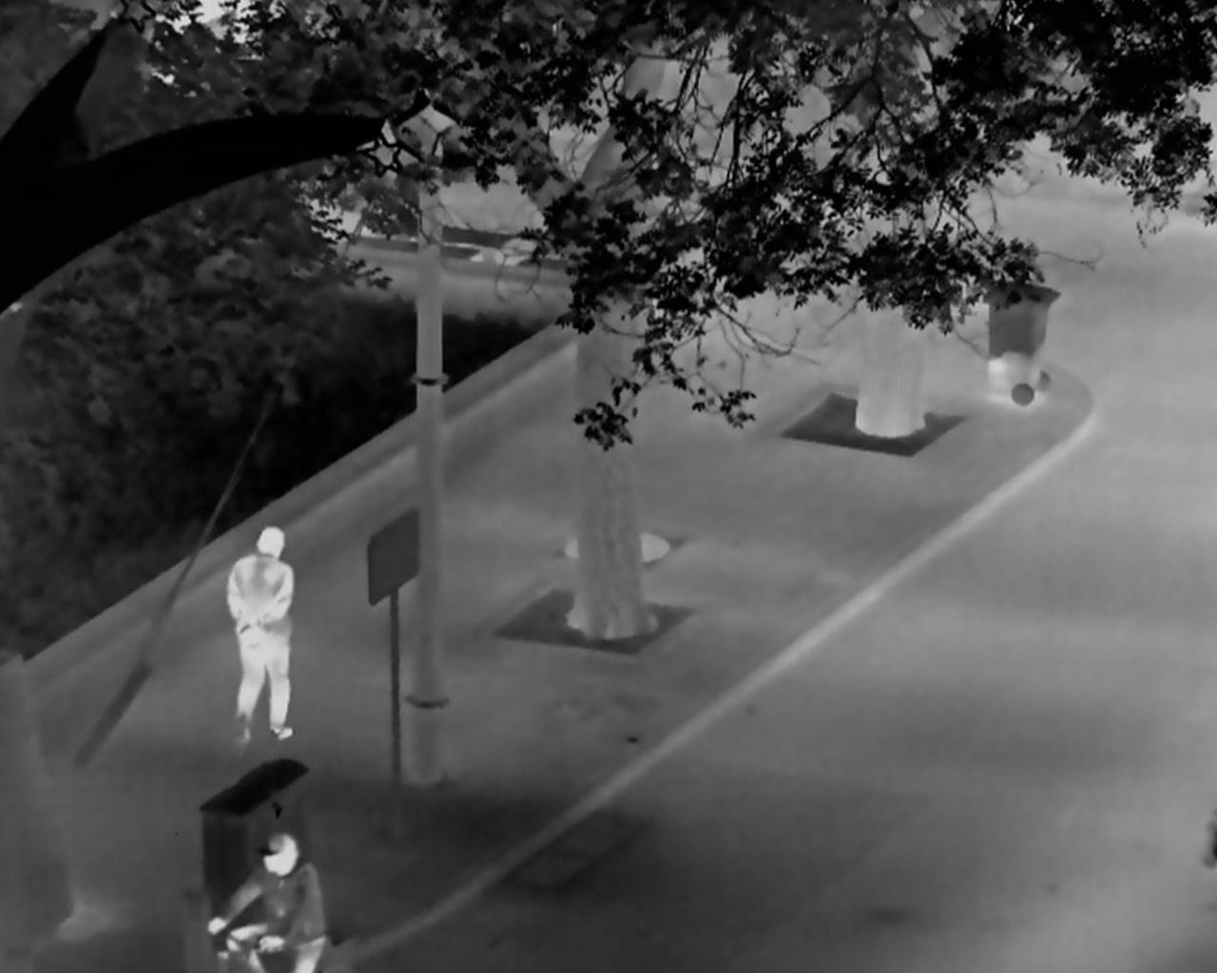person: (224, 525, 297, 751), (207, 834, 325, 973)
